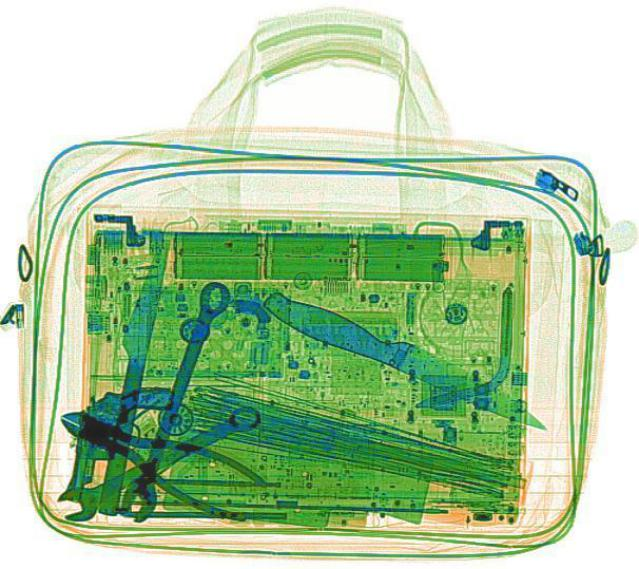Gun: (62, 377, 176, 508)
Knife: (257, 282, 556, 437), (87, 235, 169, 514)
Pliers: (41, 387, 270, 526)
Wrench: (111, 276, 237, 523), (49, 397, 273, 524)
